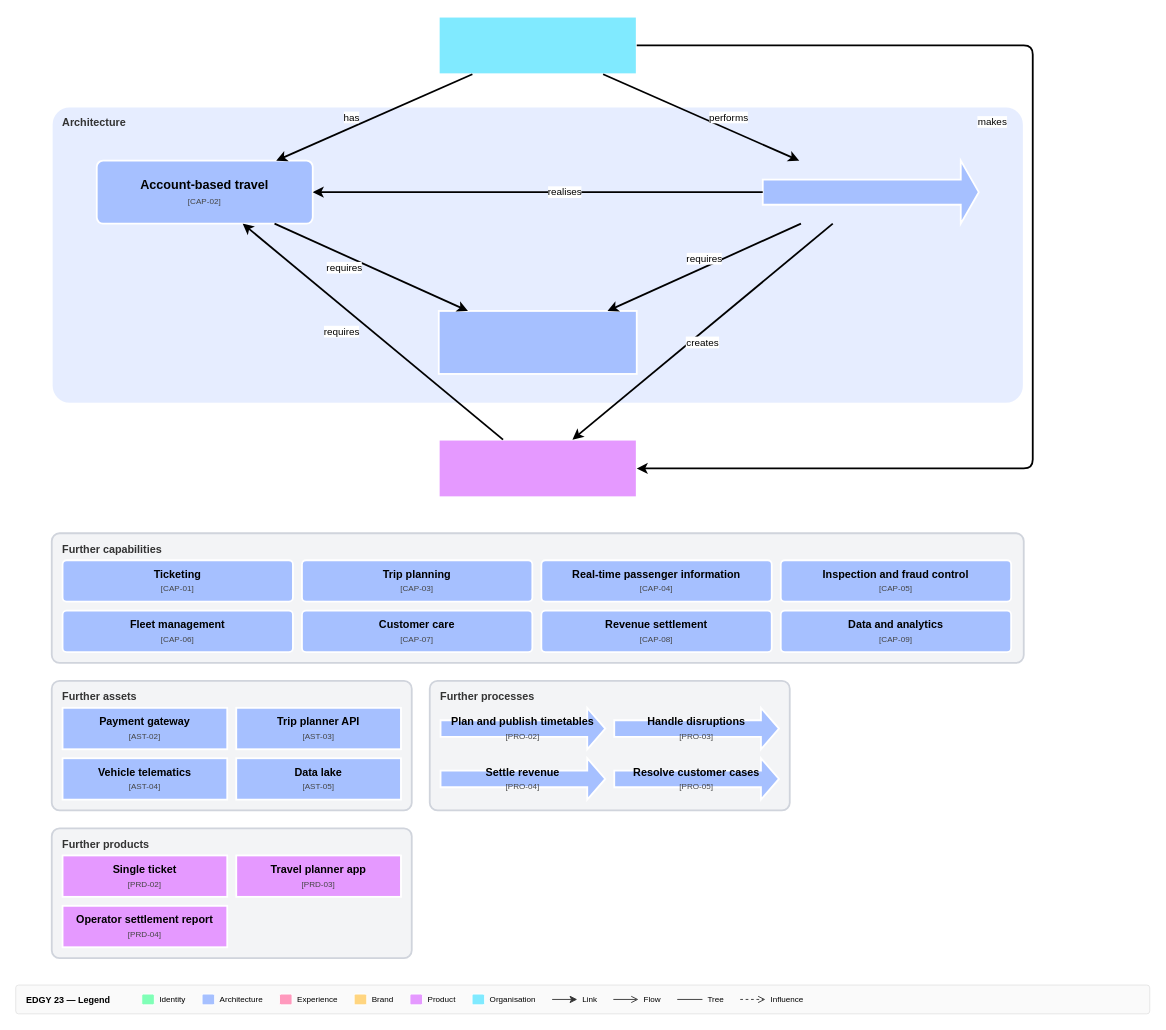
The diagram is 1166 pixels wide and 1030 high, and some of its shapes have lost their labels. Here are the shapes that lost their labels. From the top down, the centre of each, then its label:
At point 537,45: "Acme Transit [ORG-01]".
At point 870,191: "Sell and validate tickets [PRO-01]".
At point 537,342: "Account-based ticketing platform [AST-01]".
At point 537,468: "Regional travel subscription [PRD-01]".
